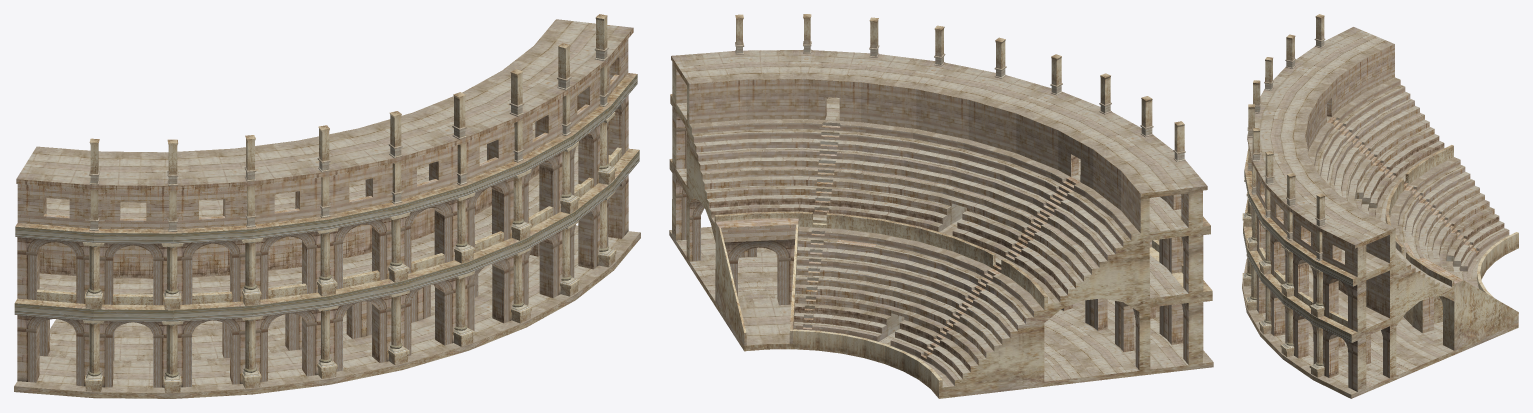
File: ArenaSect2a.dae
3 views of the same model, side by side, from view 1: azimuth 30°, elevation 25°; view 2: azimuth 150°, elevation 25°; view 3: azimuth 270°, elevation 25° (orthographic). The views are drawn at different scales.
Visible parts, largest first — view 1: S_ArenaSteps, S_ArenaSect1, S_ArenaWallSect, S_ArenaOuterRing, S_ArenaSectTrim, S_ArenaSectTrim2, S_ArenaSectTrim3, S_ArenaOuterRing2, S_ArenaColumnBases; view 2: S_ArenaSteps, S_ArenaSect1, S_ArenaEndSect, S_ArenaSectTrim, S_ArenaWallSect, S_ArenaSectTrim2, S_ArenaColumnBases; view 3: S_ArenaSteps, S_ArenaSect1, S_ArenaSectTrim, S_ArenaEndSect, S_ArenaSectTrim2, S_ArenaWallSect, S_ArenaOuterRing, S_ArenaSectTrim3, S_ArenaColumnBases, S_ArenaOuterRing2.
Part boxes in pixels (bbox=[...]): S_ArenaSteps: bbox=[14, 19, 640, 393]; S_ArenaSect1: bbox=[16, 28, 633, 385]; S_ArenaWallSect: bbox=[17, 95, 628, 387]; S_ArenaOuterRing: bbox=[14, 74, 639, 321]; S_ArenaSectTrim: bbox=[14, 73, 640, 398]; S_ArenaSectTrim2: bbox=[83, 14, 616, 392]; S_ArenaSectTrim3: bbox=[89, 122, 607, 374]; S_ArenaOuterRing2: bbox=[85, 151, 614, 381]; S_ArenaColumnBases: bbox=[89, 47, 608, 231]; S_ArenaSteps: bbox=[669, 50, 1213, 387]; S_ArenaSect1: bbox=[676, 69, 1188, 385]; S_ArenaEndSect: bbox=[669, 56, 1213, 398]; S_ArenaSectTrim: bbox=[670, 94, 1212, 398]; S_ArenaWallSect: bbox=[676, 112, 1188, 370]; S_ArenaSectTrim2: bbox=[735, 14, 1184, 312]; S_ArenaColumnBases: bbox=[735, 41, 1185, 161]; S_ArenaSteps: bbox=[1242, 27, 1509, 394]; S_ArenaSect1: bbox=[1247, 44, 1509, 377]; S_ArenaSectTrim: bbox=[1242, 145, 1518, 398]; S_ArenaEndSect: bbox=[1351, 228, 1518, 398]; S_ArenaSectTrim2: bbox=[1242, 14, 1325, 377]; S_ArenaWallSect: bbox=[1251, 206, 1389, 391]; S_ArenaOuterRing: bbox=[1243, 170, 1352, 342]; S_ArenaSectTrim3: bbox=[1247, 195, 1322, 363]; S_ArenaColumnBases: bbox=[1247, 38, 1325, 260]; S_ArenaOuterRing2: bbox=[1243, 212, 1323, 369].
Bounding box in the file's own units: 5.73 × 2.2 × 3.02.
